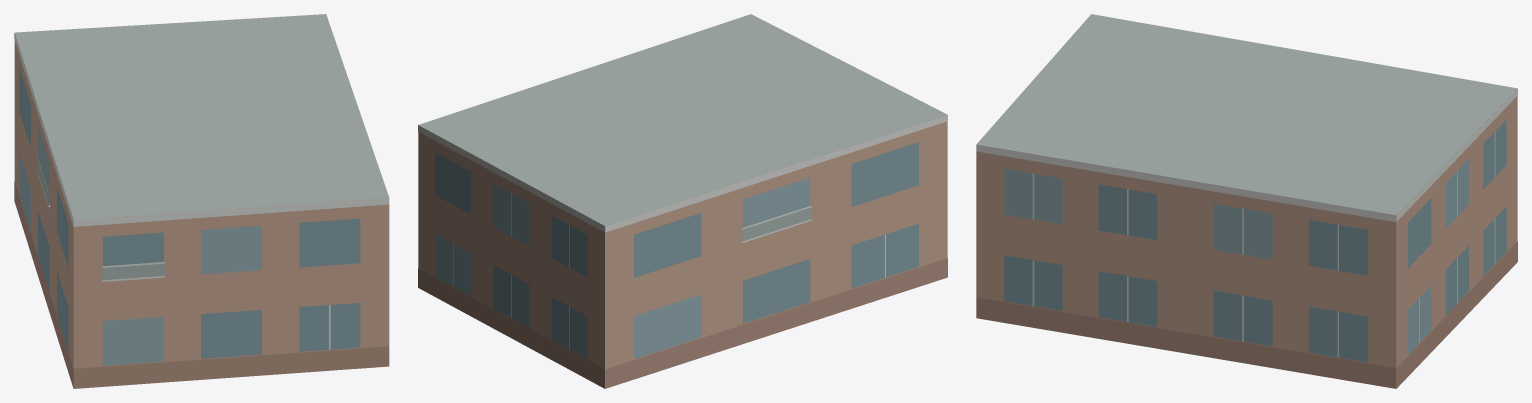
File: survey-upis-32751656.glb
3 views of the same model, side by side, from view 1: azimuth 30°, elevation 25°; view 2: azimuth 150°, elevation 25°; view 3: azimuth 270°, elevation 25° (orthographic). The views are drawn at different scales.
Visible parts, largest first — view 1: survey-upis-32751656.tmp; view 2: survey-upis-32751656.tmp; view 3: survey-upis-32751656.tmp.
Boxes of the visible parts, x1,y1,x2,y2 form: survey-upis-32751656.tmp: [14, 14, 389, 388]; survey-upis-32751656.tmp: [418, 14, 947, 388]; survey-upis-32751656.tmp: [976, 14, 1517, 388].
Bounding box in the file's own units: 15.18 × 6.1 × 17.26.
